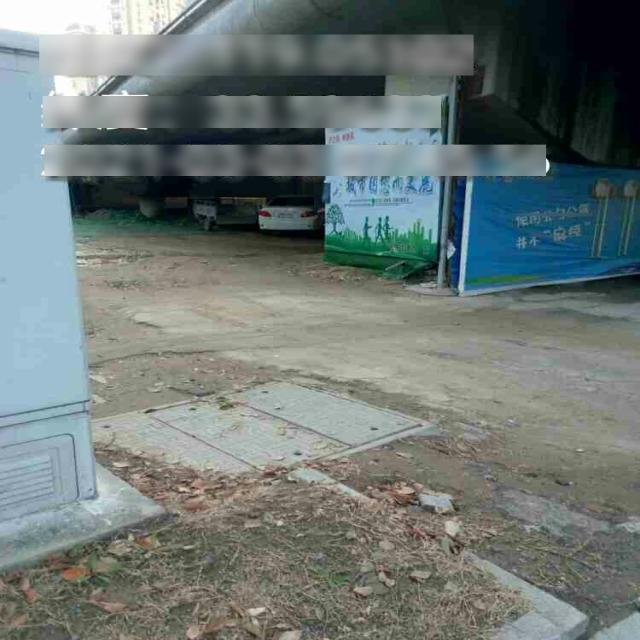Good: (94, 372, 448, 486)
